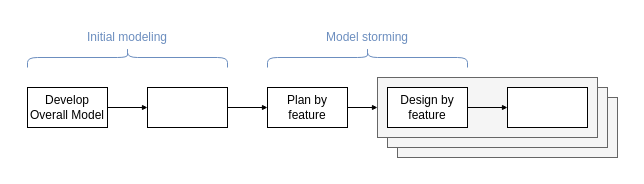
This 644x184 diagram has some shape labels left out. The shapes that lost their labels are listed below. From the top down, each one's centre as x and y in pixels, then its label:
At point (187, 107): "Build feature list".
At point (547, 107): "Build by feature".
